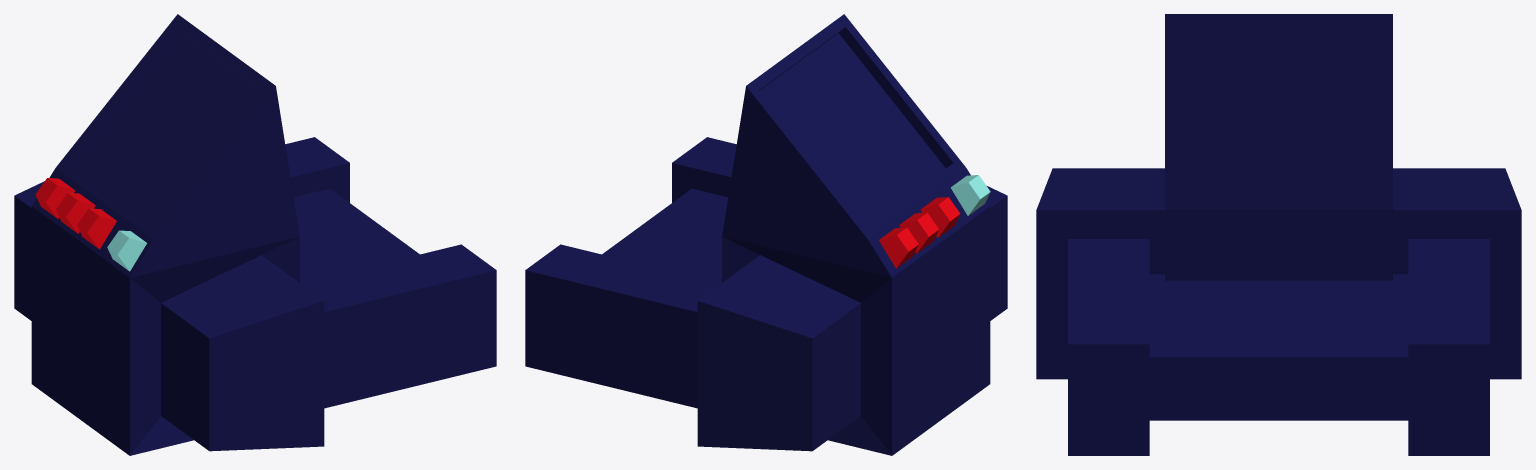
3 views of the same model, side by side, from view 1: azimuth 30°, elevation 25°; view 2: azimuth 150°, elevation 25°; view 3: azimuth 270°, elevation 25° (orthographic). The views are drawn at different scales.
Visible parts, largest first — view 1: Cube, Cube.004, Cube.003, Cube.002, Cube.001; view 2: Cube, Cube.001, Cube.004, Cube.003, Cube.002; view 3: Cube.
Boxes of the visible parts, x1,y1,x2,y2 form: Cube: [14, 14, 496, 455]; Cube.004: [107, 230, 146, 271]; Cube.003: [77, 208, 116, 249]; Cube.002: [56, 193, 95, 233]; Cube.001: [35, 178, 75, 218]; Cube: [525, 14, 1007, 455]; Cube.001: [879, 227, 918, 268]; Cube.004: [950, 175, 990, 215]; Cube.003: [920, 197, 960, 237]; Cube.002: [899, 212, 938, 253]; Cube: [1036, 14, 1521, 455].
Size of the model in its own units: 118 by 114 by 130.
